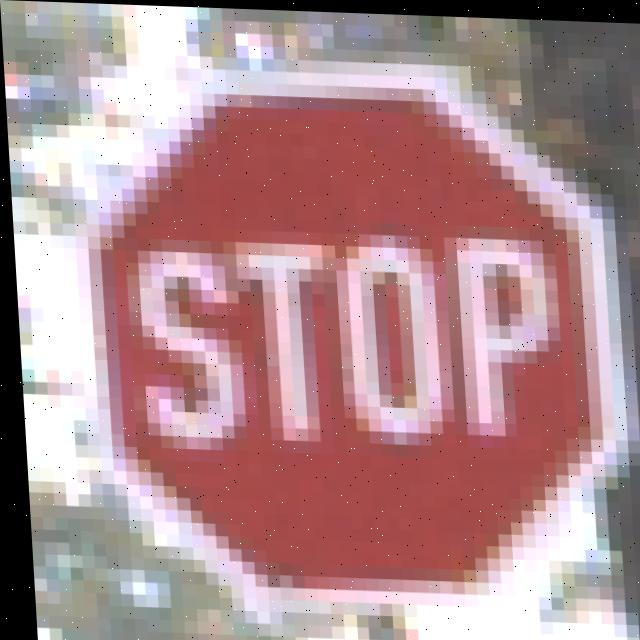stop: (78, 51, 640, 625)
